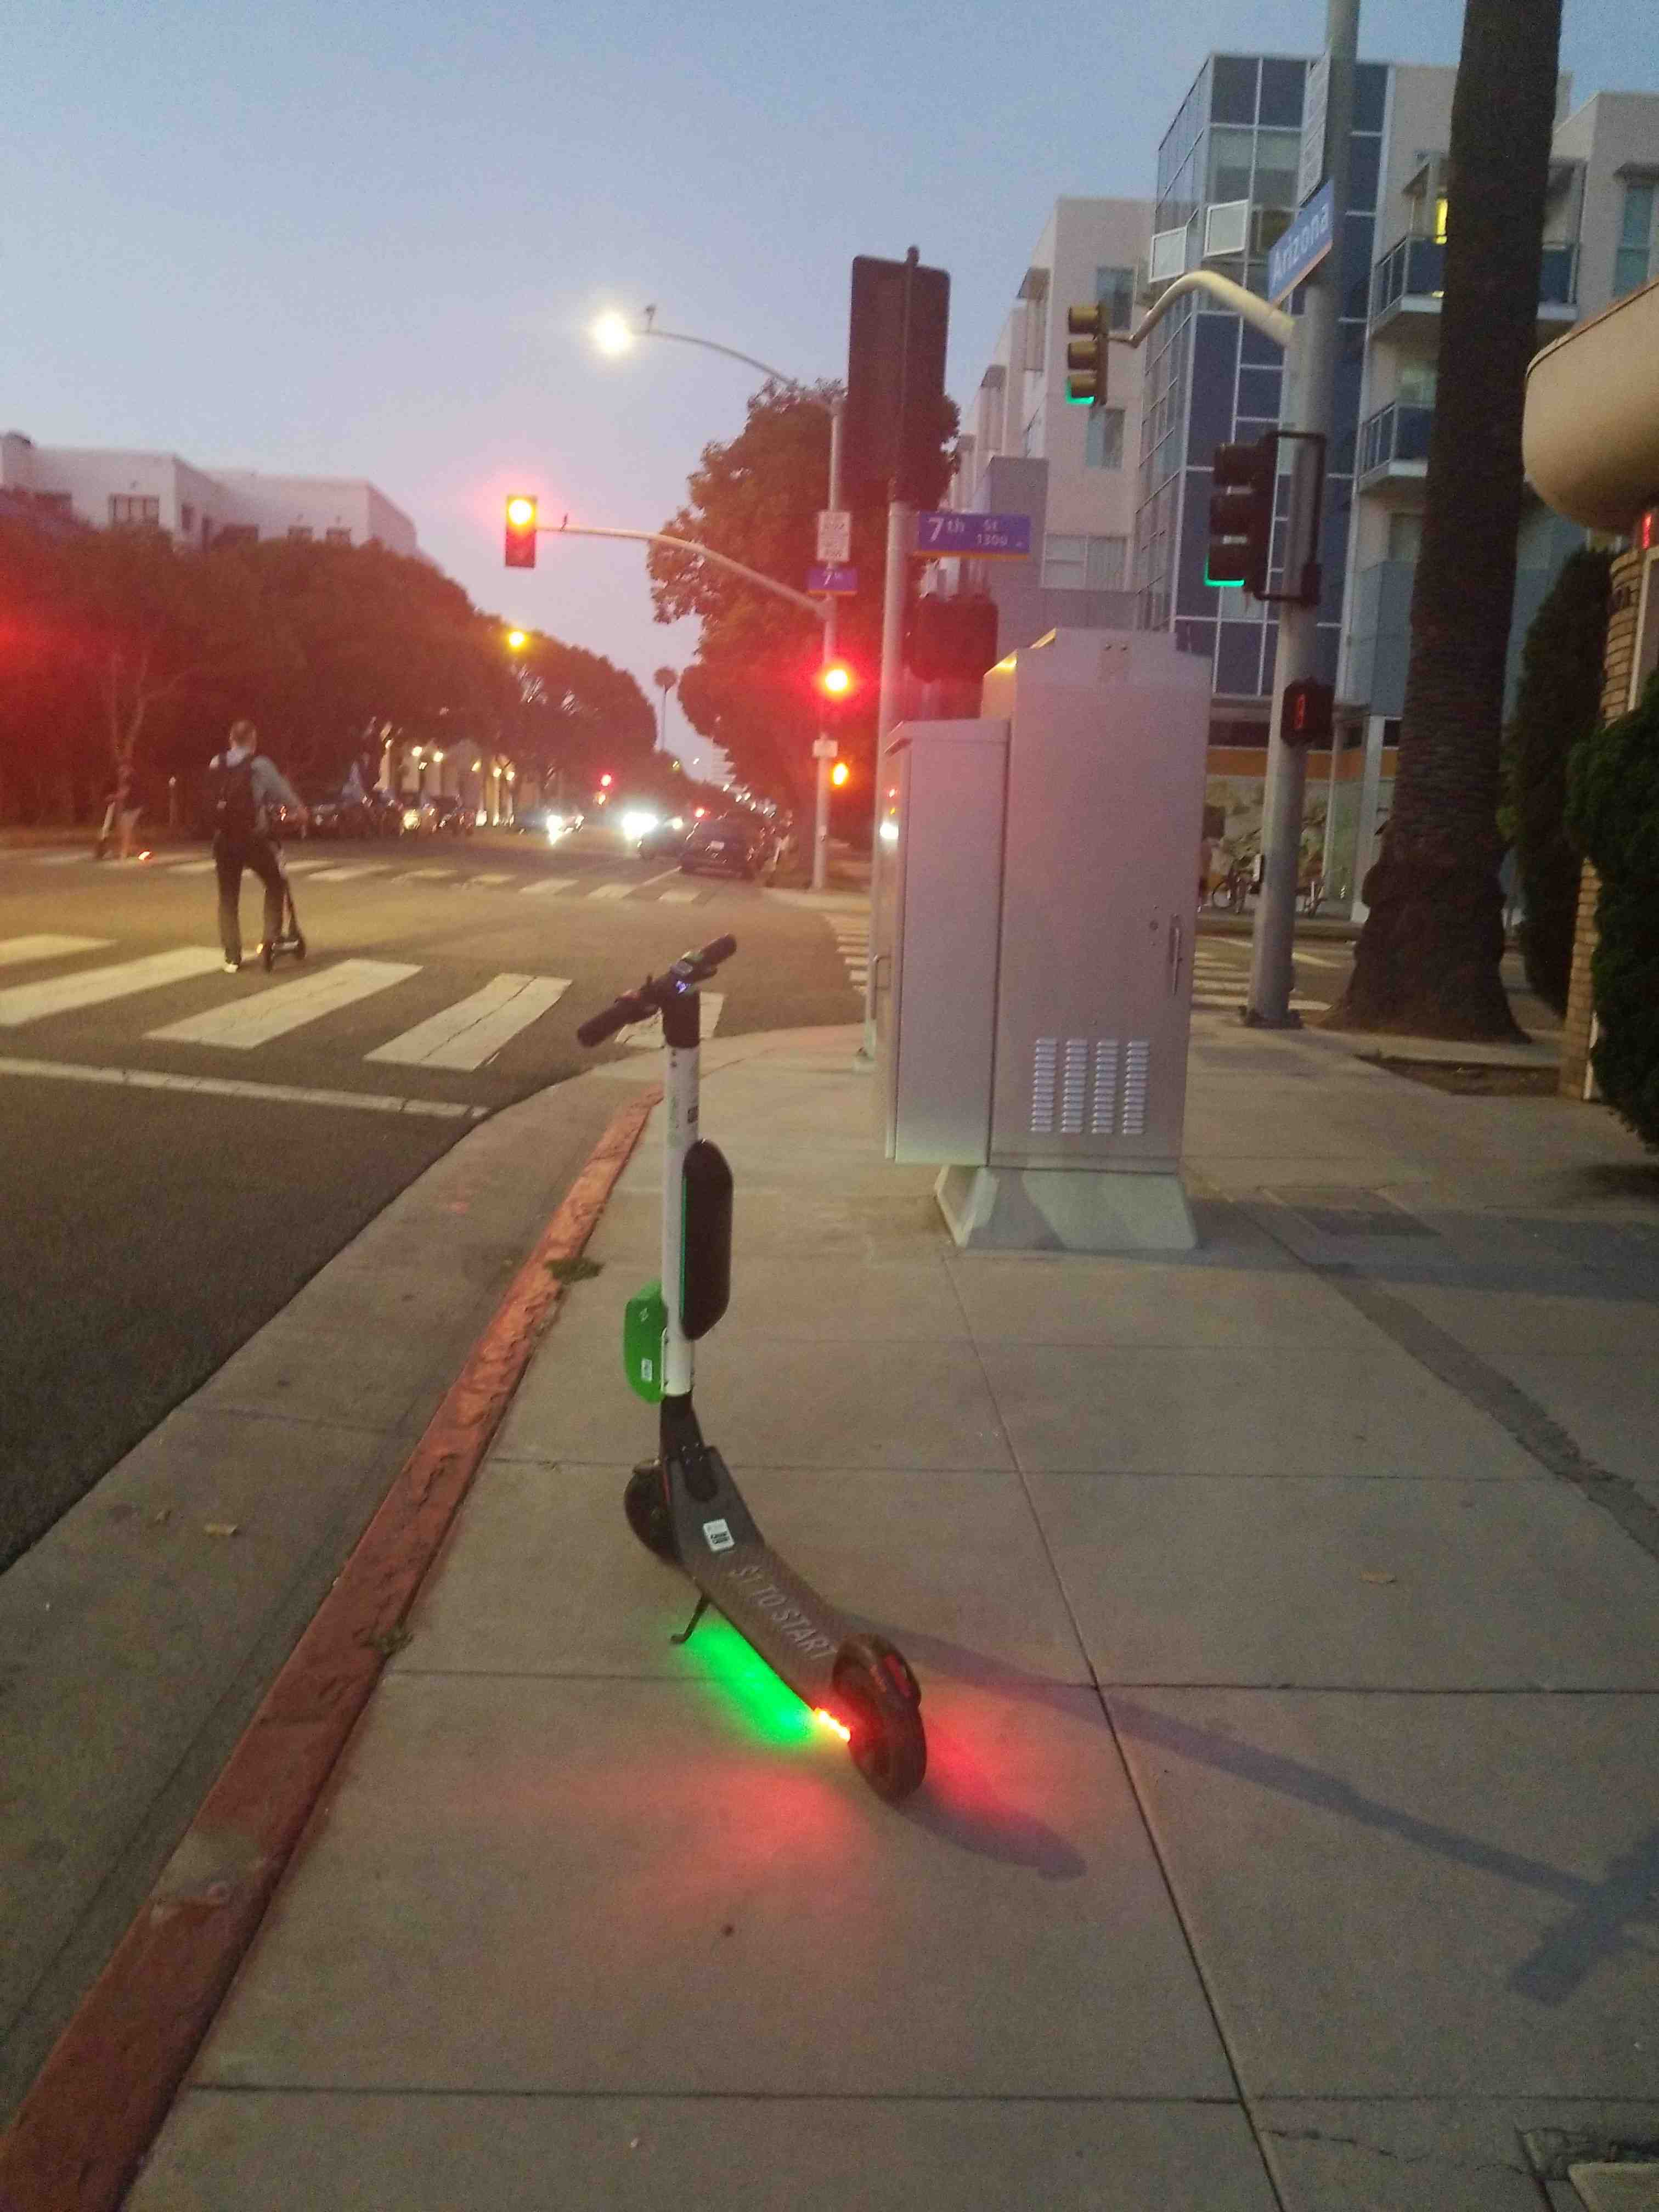scooter: (556, 914, 953, 1825)
